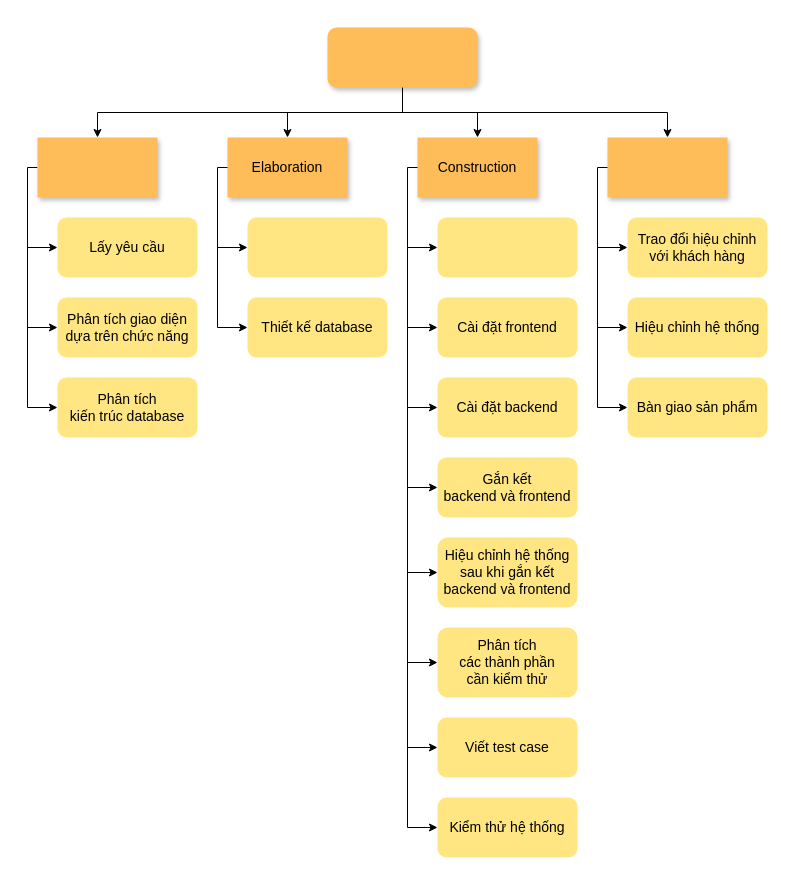
Image size: 794x884. Some labels were removed from this diagram. Here are the shapes that lost their labels. From the top down, the centre of each, then its label:
At point (403, 58): "HOTEL MANAGEMENT".
At point (98, 168): "Inception".
At point (668, 168): "Transition".
At point (317, 247): "Thiết kế giao diện".
At point (507, 247): "Cài đặt database".
